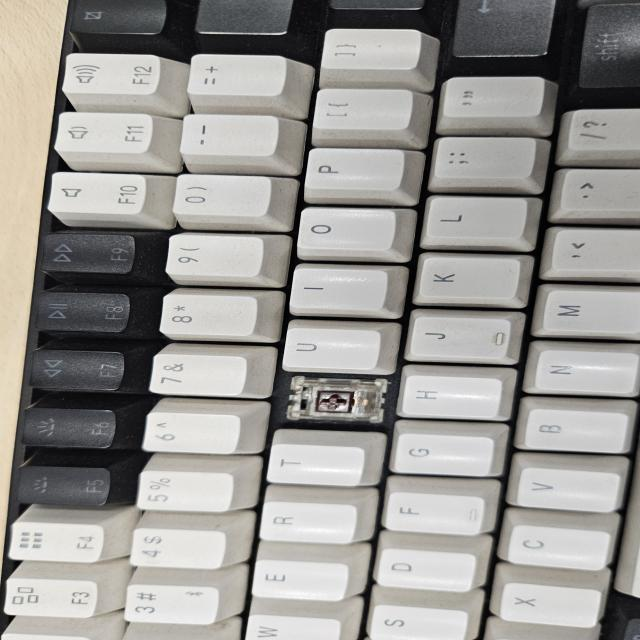C: (306, 376, 358, 428)
